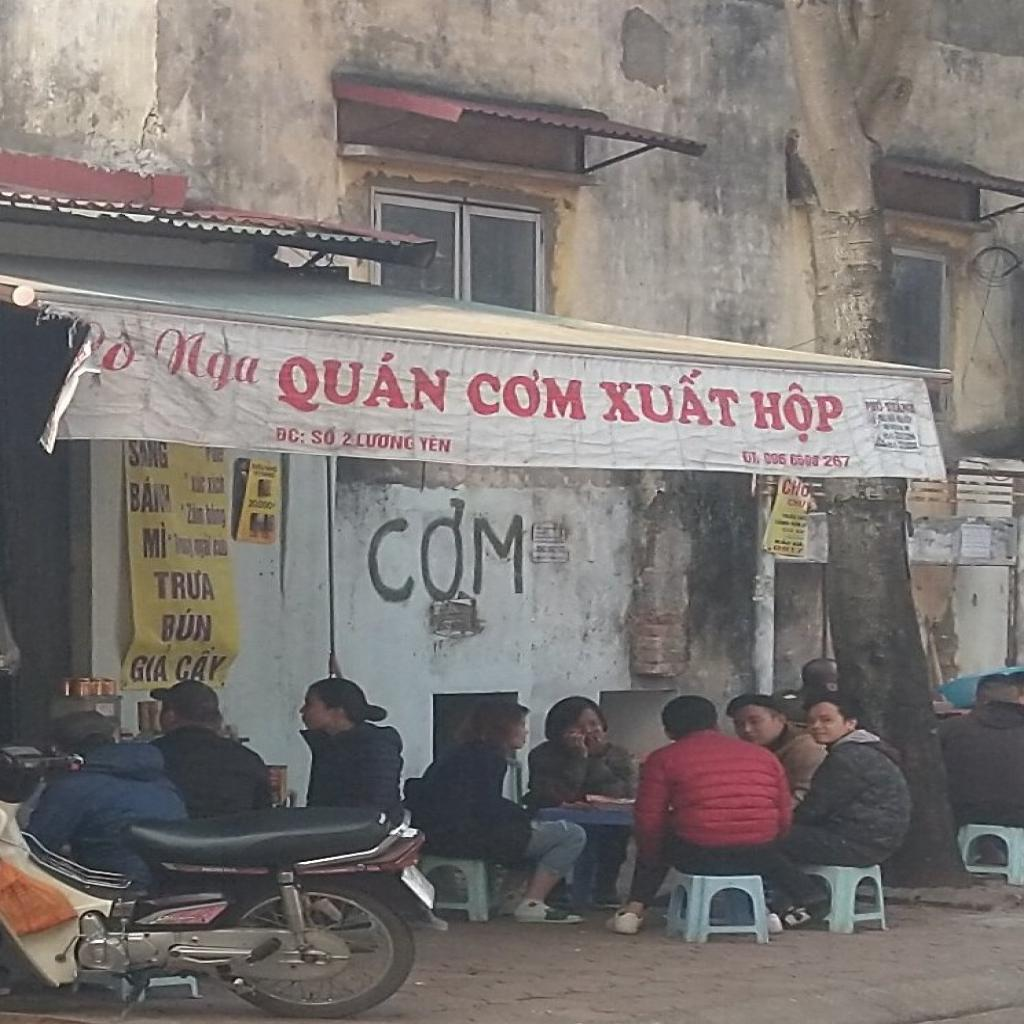text: (364, 488, 525, 607), (270, 344, 460, 420), (598, 365, 742, 429), (140, 327, 265, 398), (458, 366, 590, 422), (749, 378, 847, 433), (169, 645, 231, 682), (151, 568, 219, 601), (92, 331, 139, 374), (160, 607, 214, 643), (126, 643, 174, 683), (129, 476, 172, 515), (354, 431, 416, 452), (128, 440, 170, 470), (143, 521, 168, 560), (419, 433, 454, 454), (273, 426, 308, 444), (781, 478, 811, 498), (311, 424, 338, 446), (821, 456, 852, 467), (740, 451, 762, 465), (341, 431, 353, 448)
